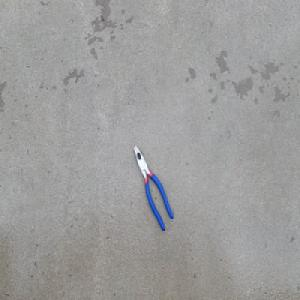Pliers: (133, 144, 173, 232)
